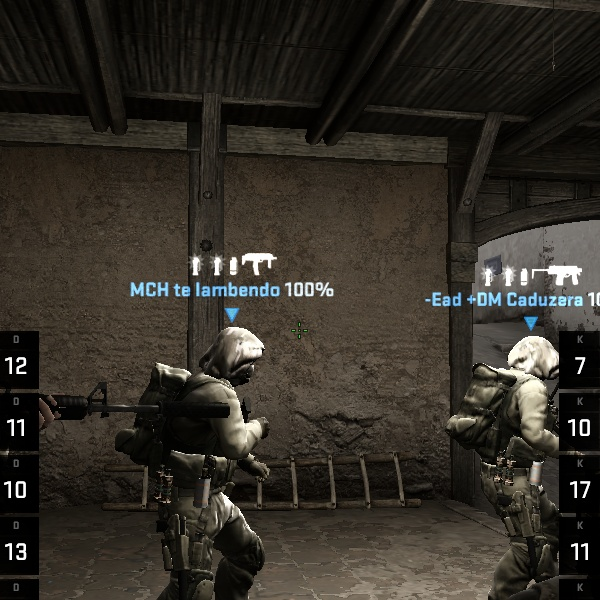ct_body: (104, 320, 292, 599), (450, 322, 587, 600)
ct_head: (192, 322, 267, 402)
